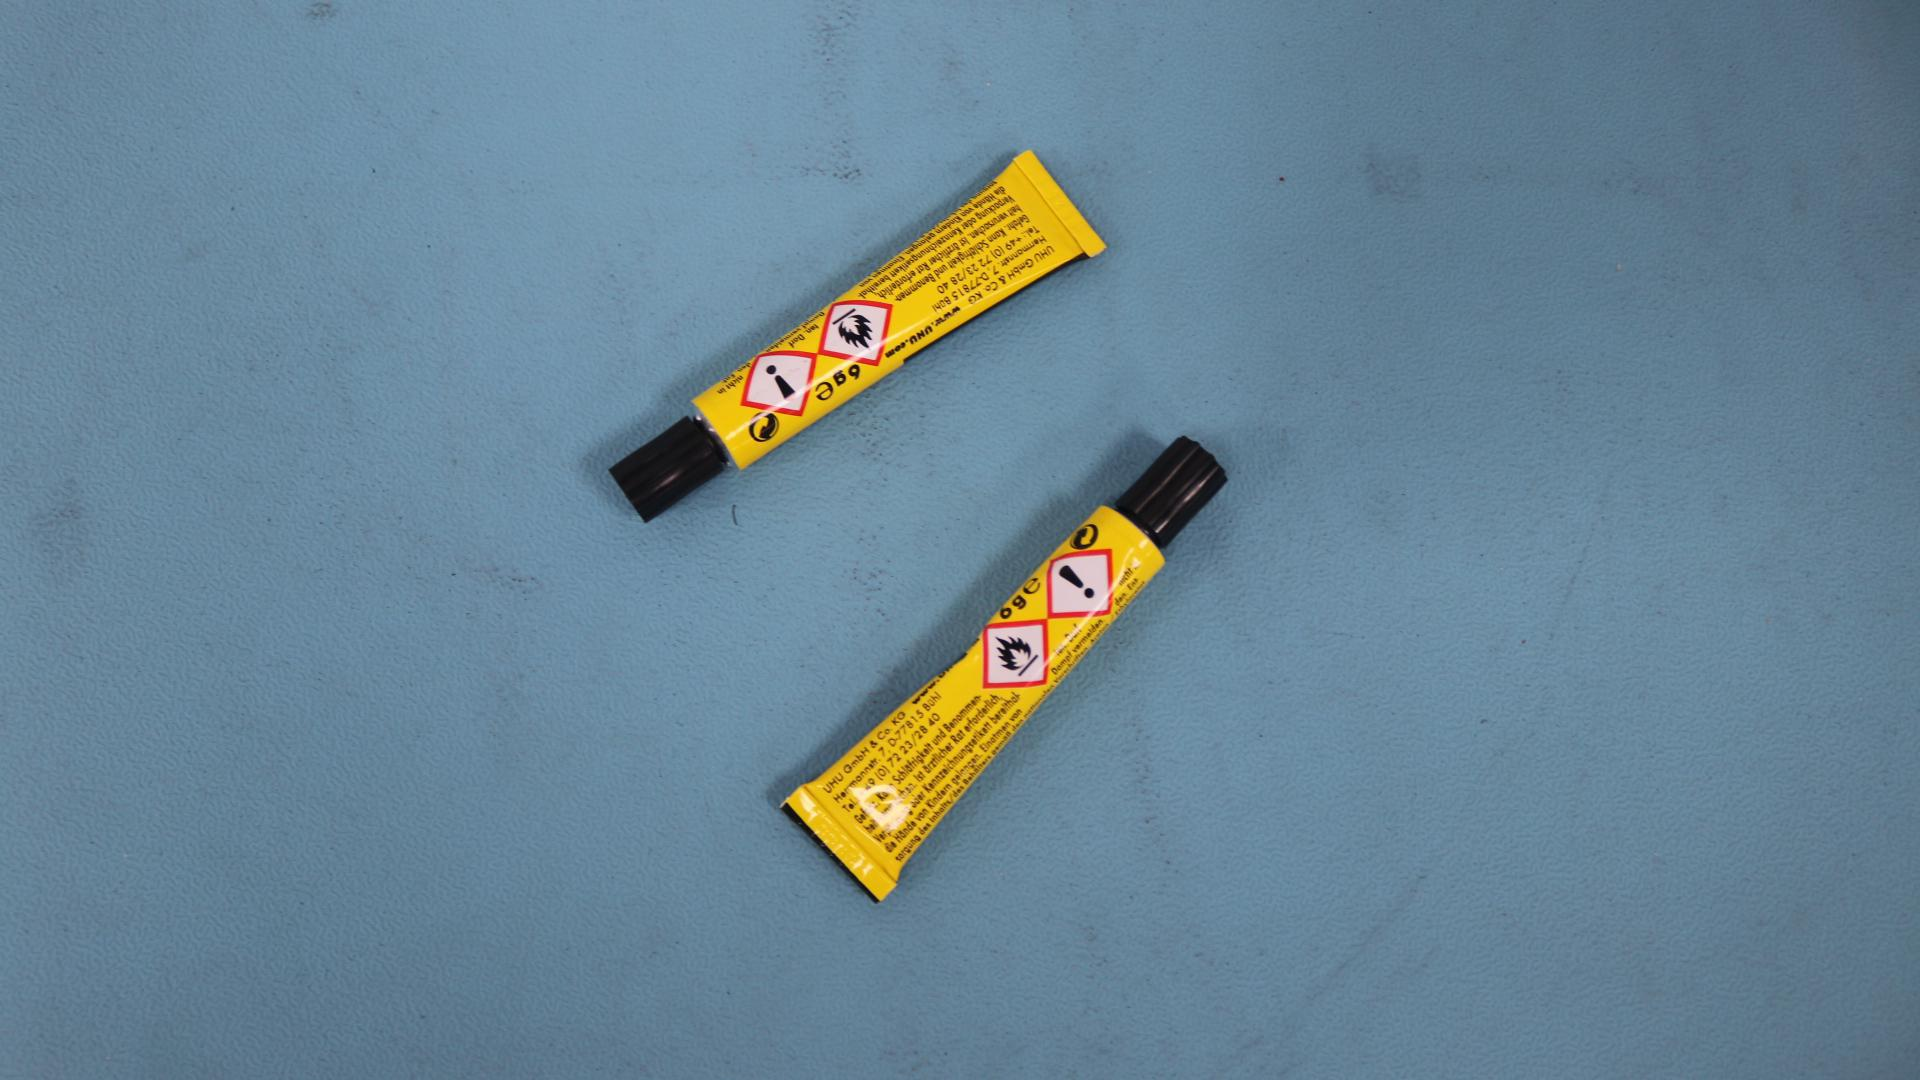Head: (664, 464, 674, 474), (1170, 488, 1179, 497)
Tail: (835, 839, 850, 854), (1056, 200, 1068, 211)
Tube: (779, 435, 1227, 902), (607, 148, 1108, 523)
